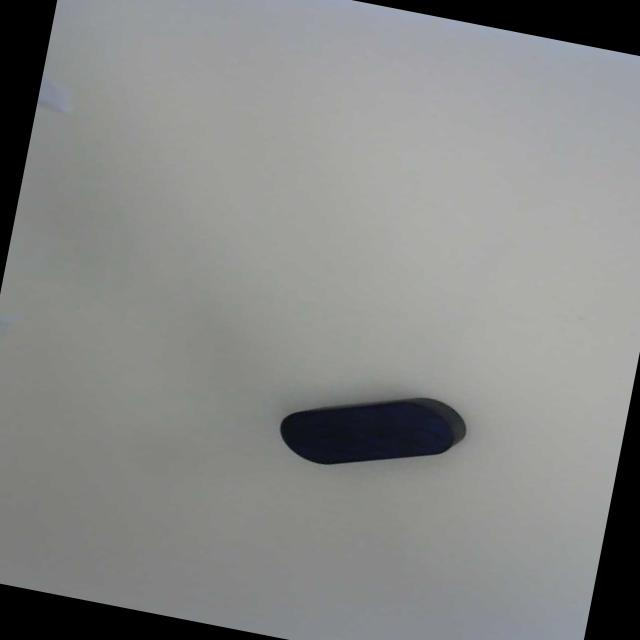oval: (266, 396, 461, 466)
